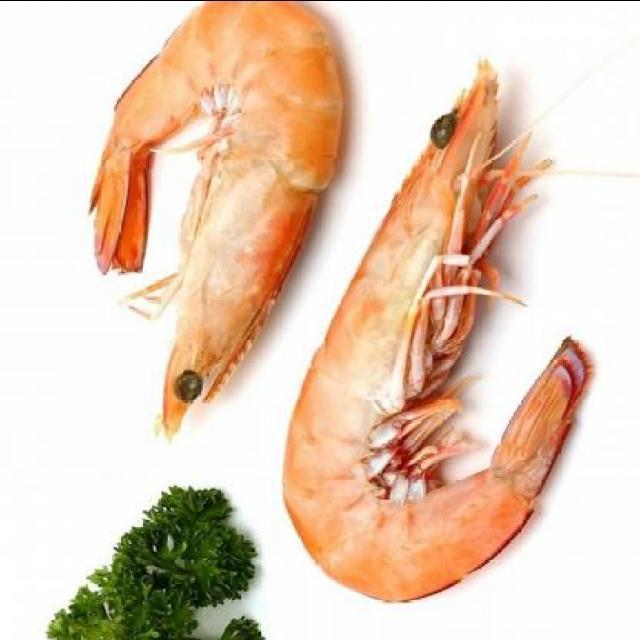shrimp: (265, 53, 596, 616), (77, 0, 347, 455)
